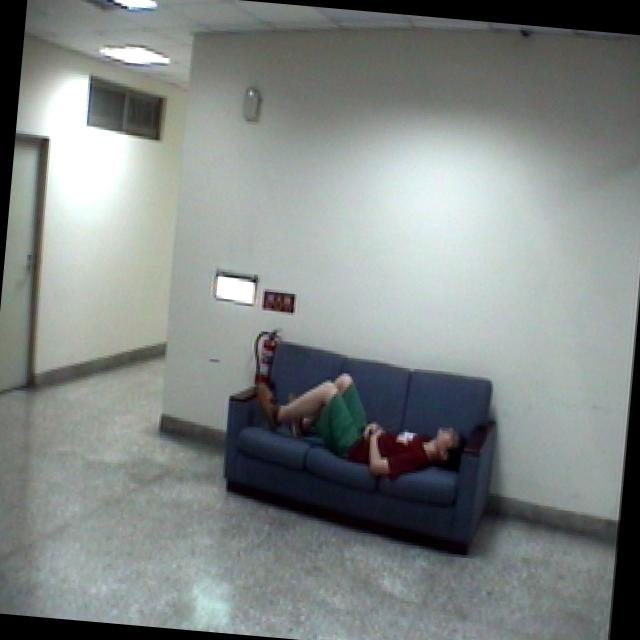lie: (239, 358, 472, 489)
